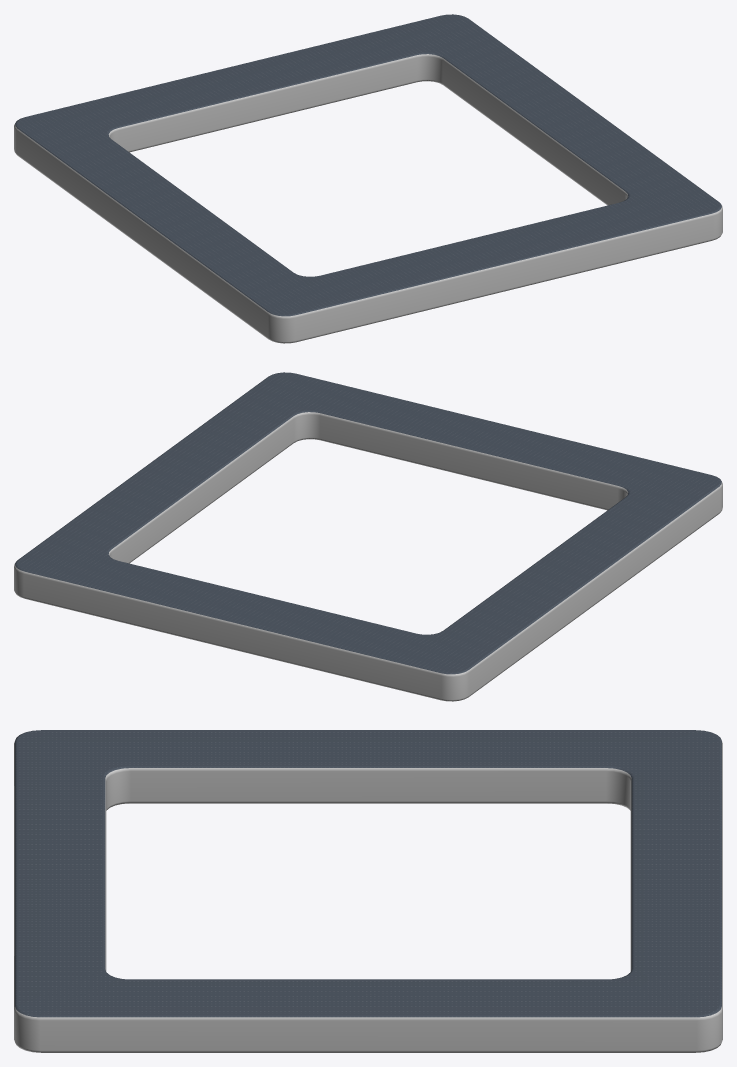
The model's file is SM_Walkway.fbx.
3 views of the same model, one above another, from view 1: azimuth 30°, elevation 25°; view 2: azimuth 150°, elevation 25°; view 3: azimuth 270°, elevation 25° (orthographic). The views are drawn at different scales.
Parts seen in each view (by area): view 1: SM_Walkway; view 2: SM_Walkway; view 3: SM_Walkway.
Boxes of the visible parts, bbox=[...] form: SM_Walkway: bbox=[14, 14, 722, 343]; SM_Walkway: bbox=[14, 372, 722, 701]; SM_Walkway: bbox=[14, 730, 722, 1052].
Bounding box in the file's own units: 5200 × 317 × 5407.
